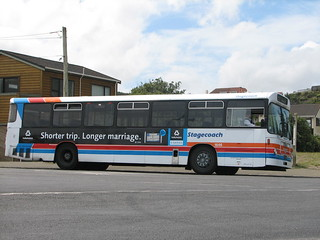bus: (4, 91, 293, 175)
